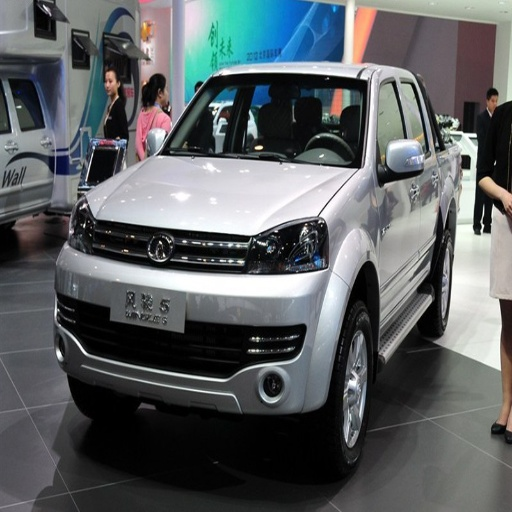front_bumper: (55, 220, 349, 412)
front_glass: (160, 74, 366, 166)
front_left_door: (372, 74, 421, 319)
